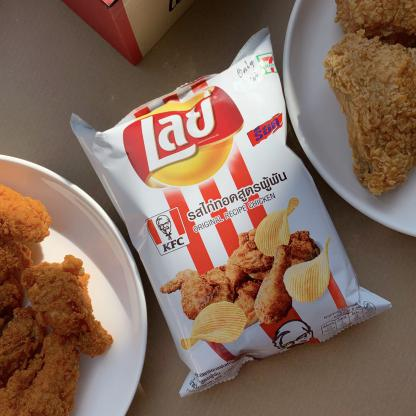potatochip: (70, 31, 396, 397)
